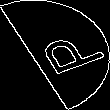P_SW: (15, 27, 95, 83)
